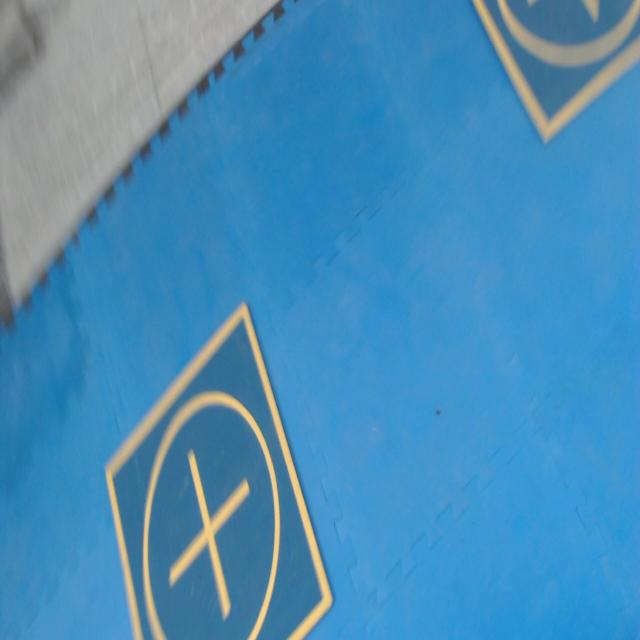base_pouso: (106, 297, 337, 639), (470, 0, 640, 151)
